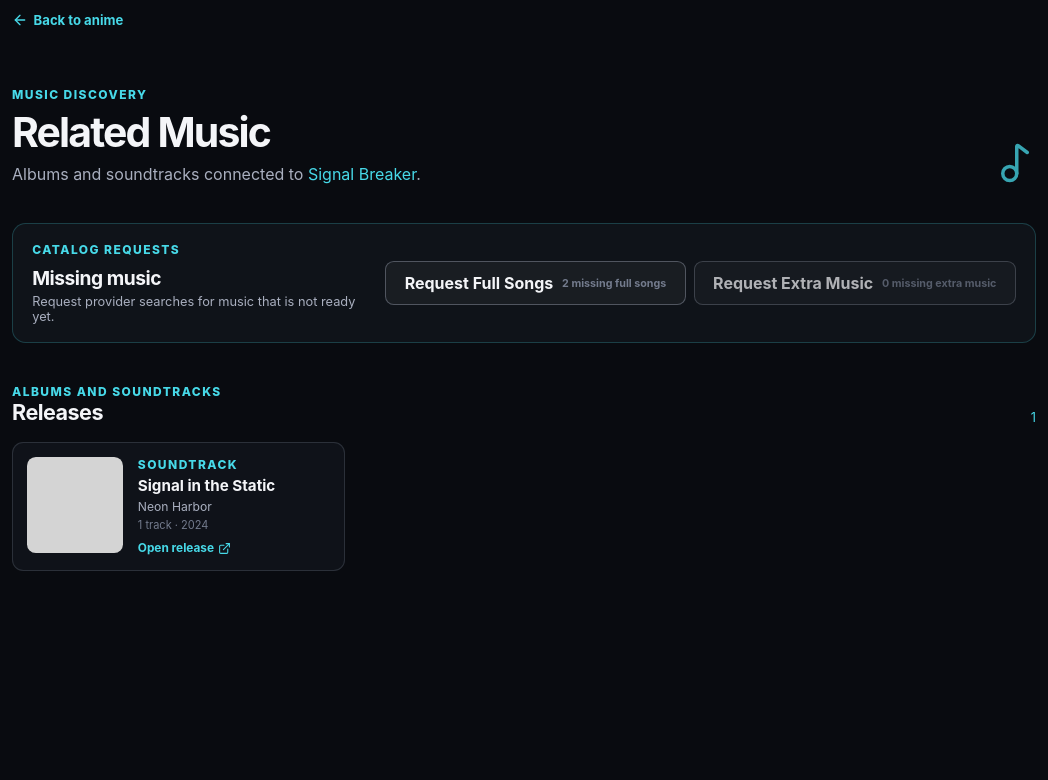
related music page › submits a full-song request and surfaces the queued state without replacing release discovery
The width and height of the screenshot is (1048, 780).
expect the heading "Related Music" is shown: met, box [12, 107, 270, 157]
Click the button "Request Full Songs 2 missing full songs": (536, 283) [385, 261, 686, 305]
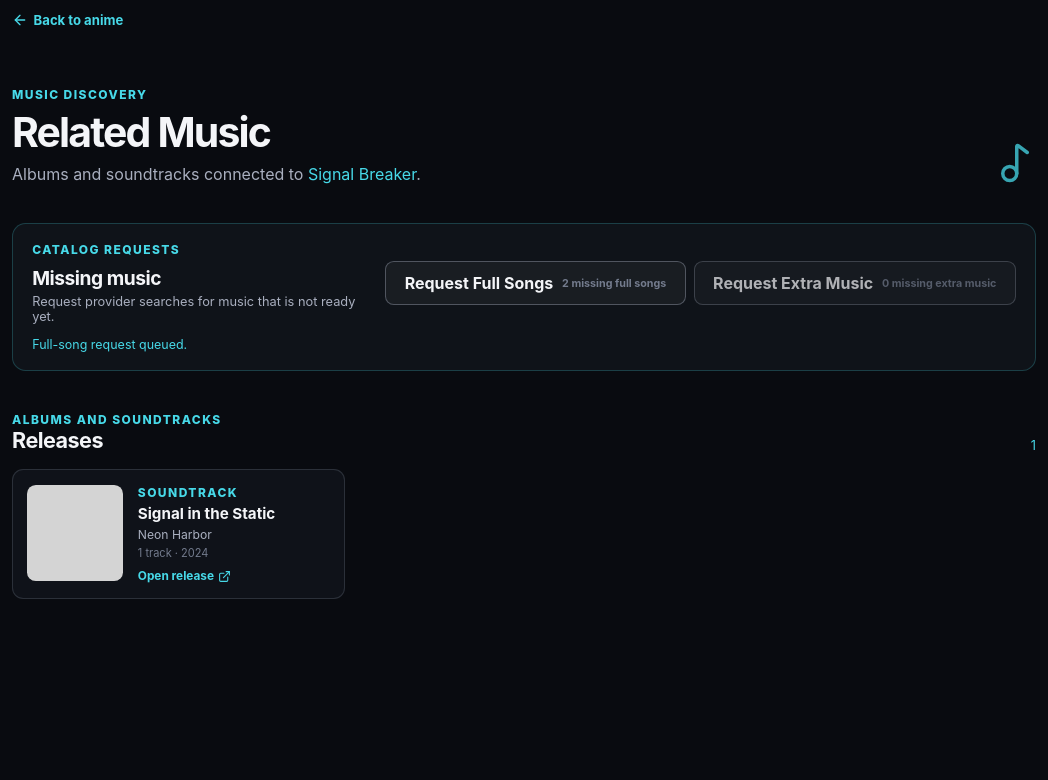
expect the text "Full-song request queued." is shown: met, box [32, 337, 187, 352]
